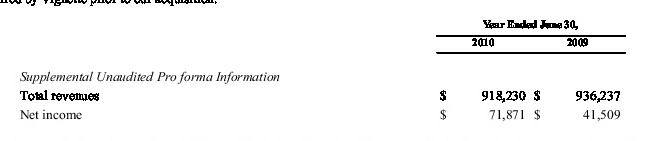table: (0, 0, 645, 141)
